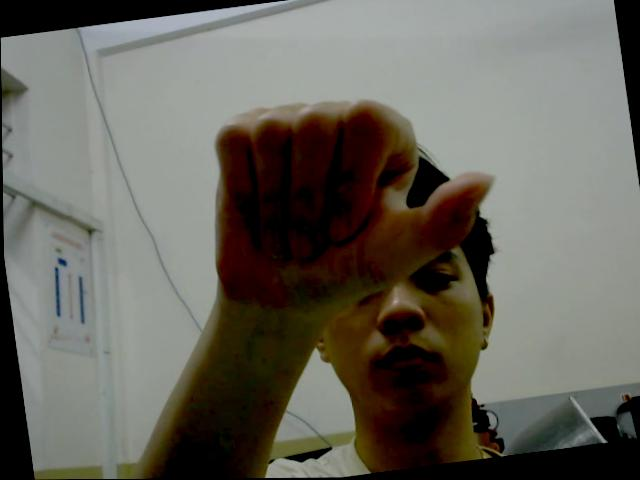A: (193, 76, 510, 317)
